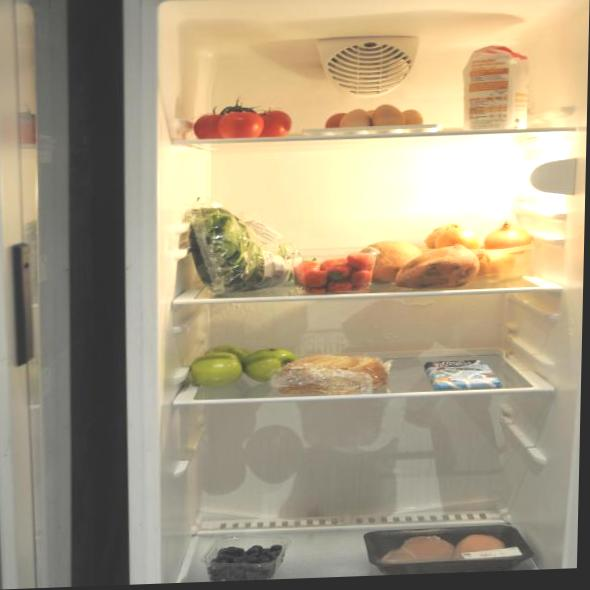apple: (182, 337, 291, 388)
eggs: (315, 103, 434, 141)
meat: (359, 518, 536, 575)
onion: (436, 216, 542, 295)
tomatoes: (188, 88, 302, 150), (290, 246, 381, 296)
